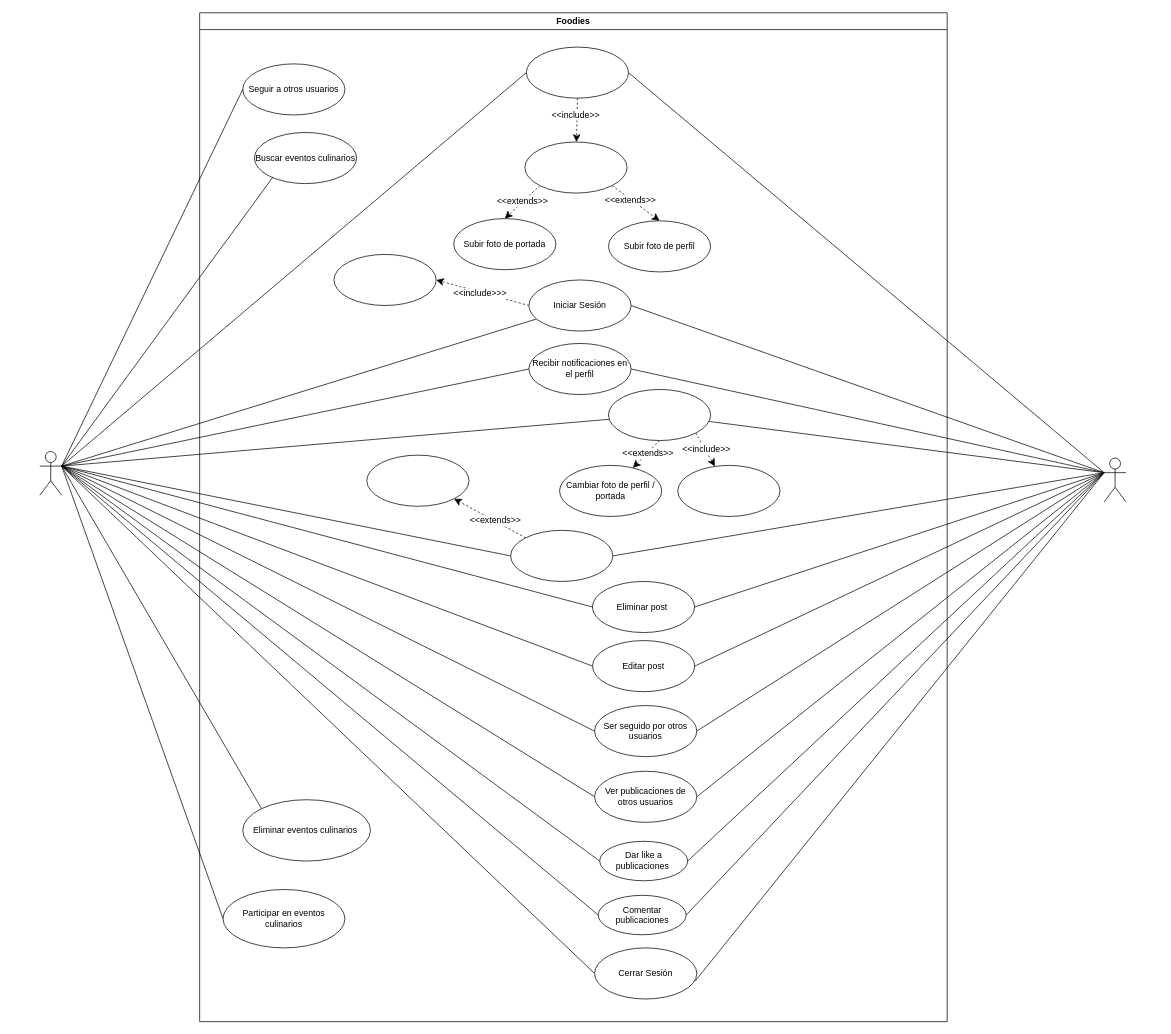
Some shapes in this 1171 by 1034 pixel diagram are drawn without their labels. The centre of each missing label's shape, as x and y in pixels:
Cambiar datos del perfil: point 728,490
Crear Perfil: point 575,167
Crear una cuenta: point 577,72
Editar contenido del perfil: point 659,415
Guardar datos de la sesión: point 384,280
Publicar post (Regular con imagen y texto): point 561,555
Subir imagen: point 417,480
User (Persona): point 50,473
User (Restaurante): point 1114,479
